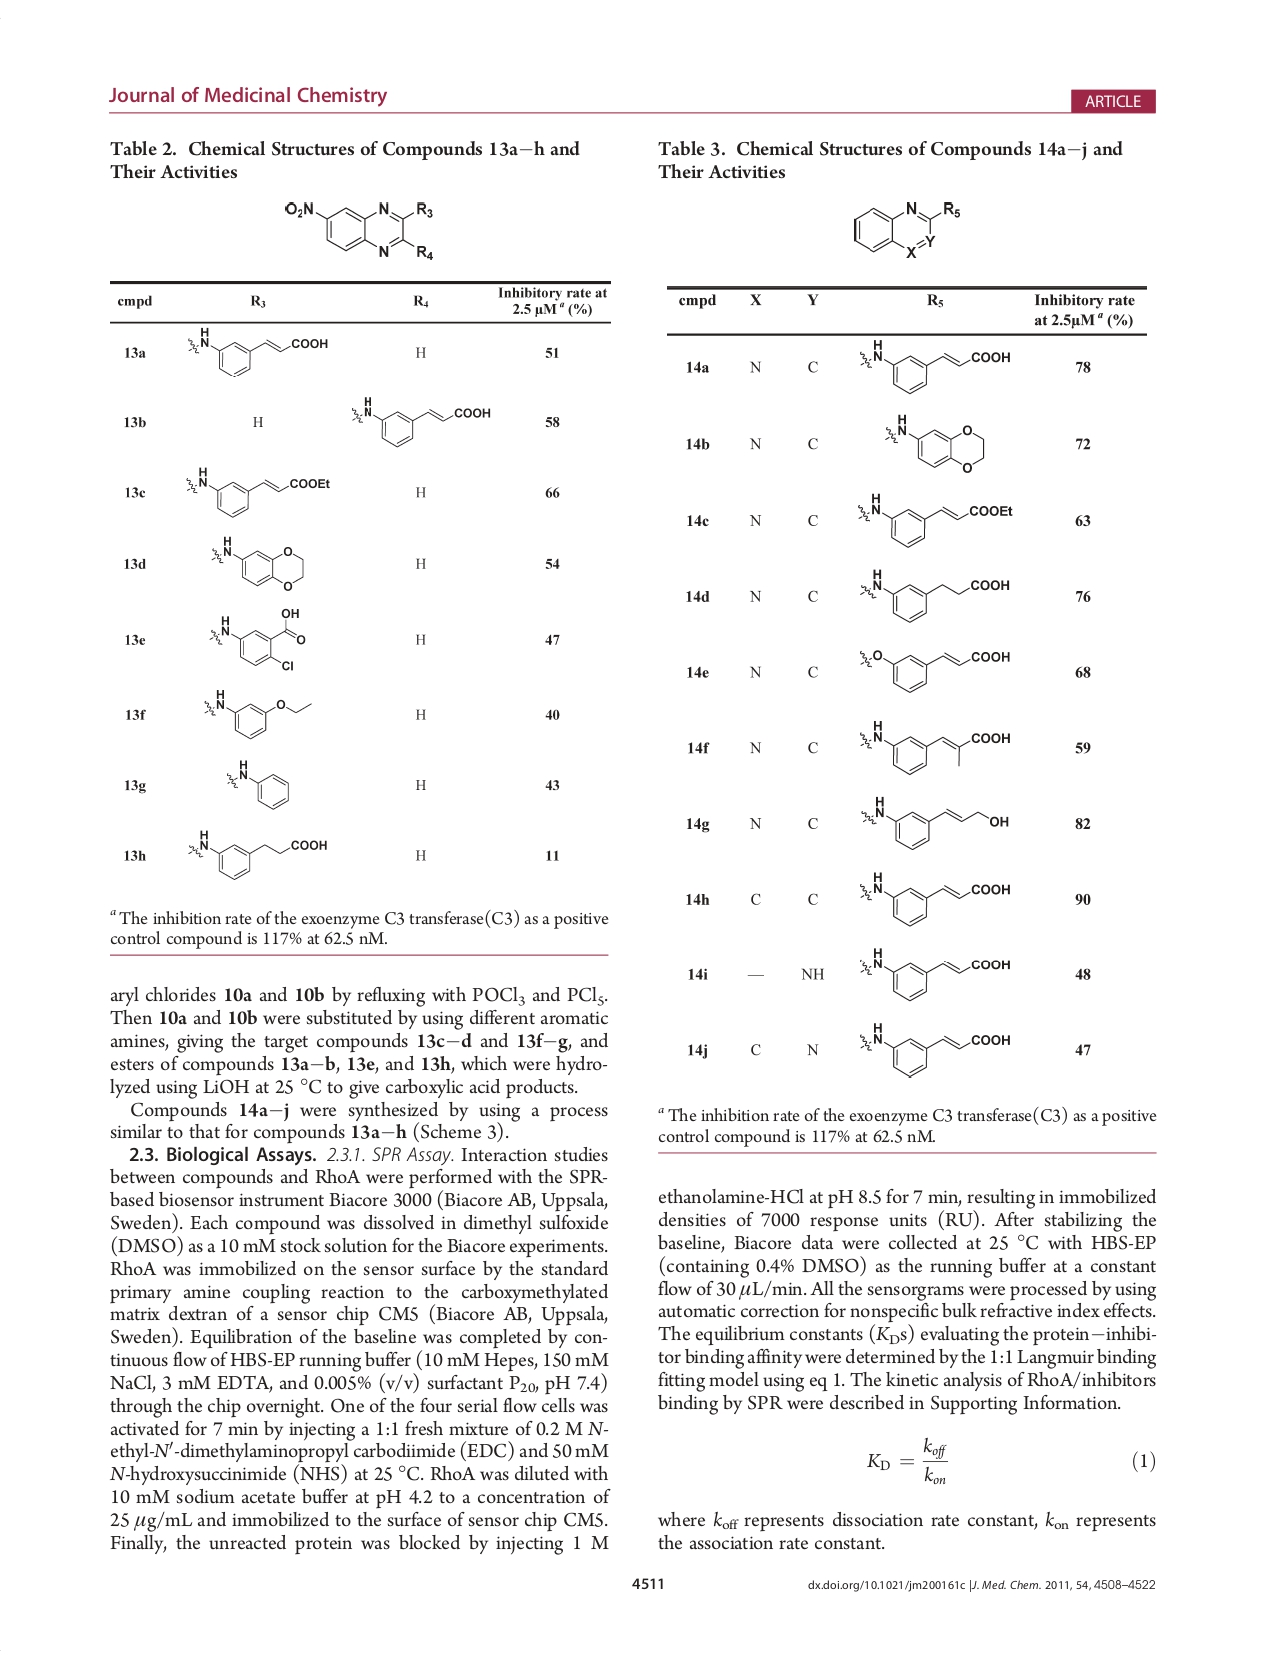exist_molecular: (278, 194, 438, 269), (856, 713, 1012, 779), (856, 864, 1012, 930), (856, 1017, 1012, 1081), (855, 491, 1015, 551), (855, 336, 1013, 396), (858, 793, 1012, 852), (856, 944, 1012, 1003), (856, 567, 1013, 624), (346, 392, 493, 449), (855, 640, 1009, 694), (182, 465, 331, 520), (185, 326, 330, 380), (184, 829, 328, 883), (880, 411, 993, 477), (850, 197, 961, 261), (207, 604, 306, 672), (202, 684, 313, 741), (210, 532, 307, 592), (222, 757, 291, 813)
